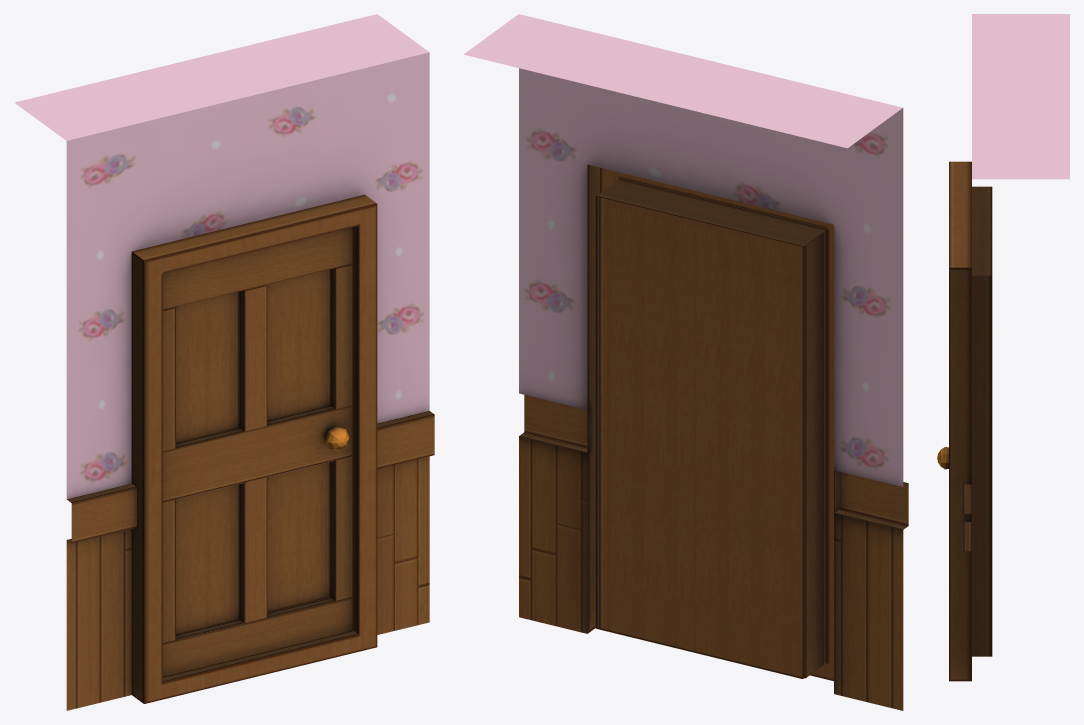
Rendered from DoorClose.fbx.
3 views of the same model, side by side, from view 1: azimuth 30°, elevation 25°; view 2: azimuth 150°, elevation 25°; view 3: azimuth 270°, elevation 25° (orthographic). The views are drawn at different scales.
Parts seen in each view (by area): view 1: DoorWall, Door; view 2: DoorWall, Door; view 3: DoorWall.
Part boxes in pixels (x1,y1,x2,y2): DoorWall: (14, 14, 434, 710); Door: (163, 227, 353, 677); DoorWall: (464, 14, 908, 710); Door: (598, 197, 823, 678); DoorWall: (949, 14, 1069, 681).
Size of the model in its own units: 200 by 300 by 67.88.
